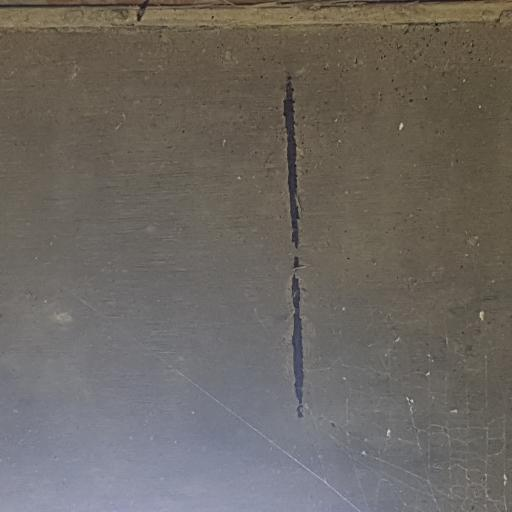exposed_rebar: (284, 76, 299, 249), (292, 256, 304, 418)
